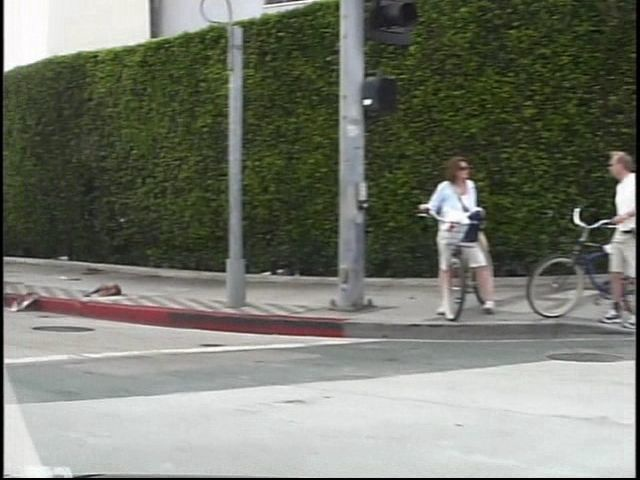person: (415, 155, 482, 326), (583, 153, 633, 333)
